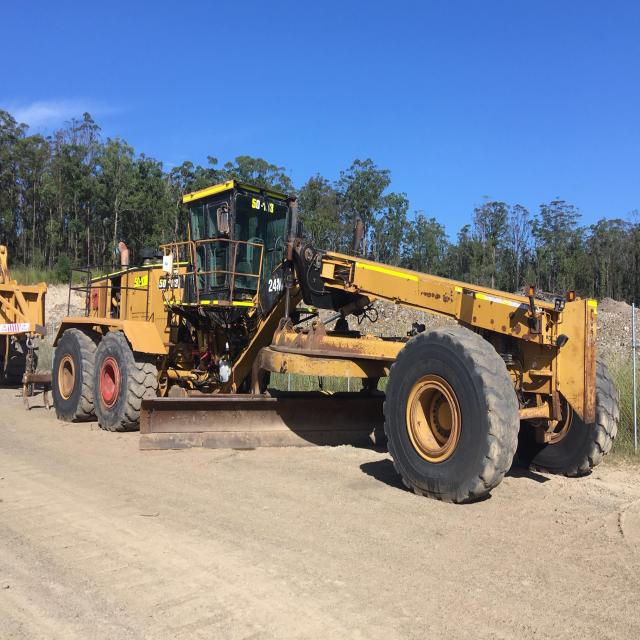Grader: (45, 157, 617, 511)
